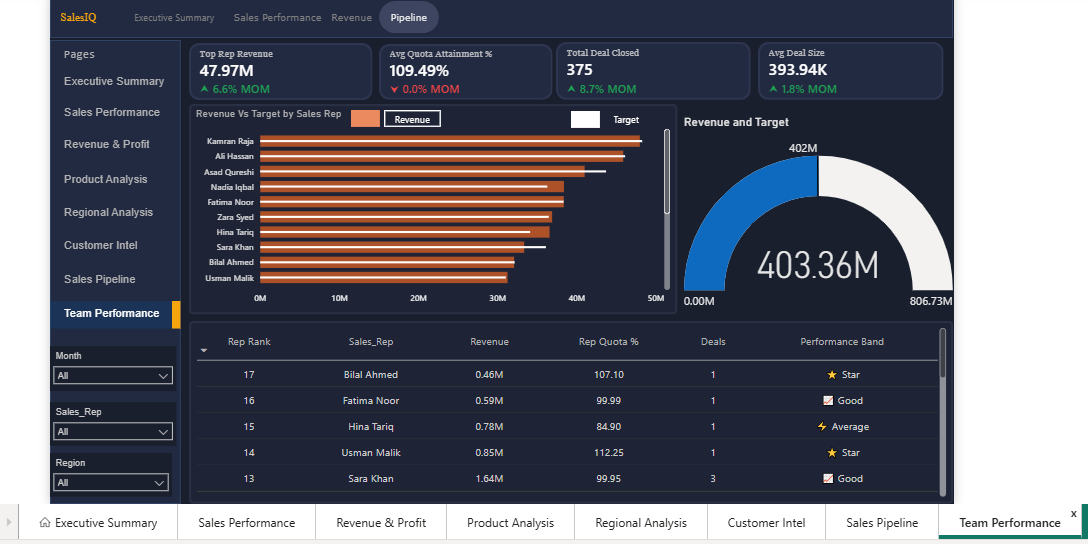

The page's visual inventory and layout, read from the dashboard file:
{"tool":"powerbi","page":{"name":"Team Performance","canvas":[1280,720],"ordinal":7},"visuals":[{"type":"shape","box":[0,0,1279.8,59.5],"z":0,"group":"g11"},{"type":"shape","box":[0,62,185,657.6],"z":0,"group":"g9"},{"type":"cardVisual","title":"Total Revenue ","fields":{"Data":["Table1.Avg Quota Attainment %"]},"box":[466,68,246,79],"z":0},{"type":"actionButton","box":[0,103.3,185,39.4],"z":0,"group":"g1"},{"type":"actionButton","box":[0,146.7,185,39.4],"z":0,"group":"g3"},{"type":"clusteredBarChart","title":"Revenue Vs Target by Sales Rep","fields":{"Category":["Table1.Sales_Rep"],"Y":["Sum(Table1.Revenue_PKR)"]},"box":[197,153.1,691.7,297.6],"z":0,"group":"g13"},{"type":"shape","box":[473.1,161.6,80.6,24.1],"z":0,"group":"g2"},{"type":"shape","box":[790.2,161.6,51.9,26.9],"z":0,"group":"g4"},{"type":"actionButton","box":[0,192,186,37.3],"z":0,"group":"g5"},{"type":"actionButton","box":[0,242.2,185,39.4],"z":0,"group":"g6"},{"type":"actionButton","box":[0,289.4,185,39.4],"z":0,"group":"g7"},{"type":"actionButton","box":[0,336.2,185,39.4],"z":0,"group":"g8"},{"type":"actionButton","box":[0,383.7,185,39.4],"z":0,"group":"g12"},{"type":"actionButton","box":[0,431.3,185,39.4],"z":0,"group":"g10"},{"type":"actionButton","box":[109,6.9,134,45.8],"z":1000,"group":"g11"},{"type":"cardVisual","title":"Total Revenue ","fields":{"Data":["Table1.Top Rep Revenue"]},"box":[197,66,260,81],"z":1000},{"type":"group","id":"g1","title":"Executive summary 1","box":[0,103.3,185,39.4],"z":1000,"group":"g9"},{"type":"group","id":"g2","title":"Group 1","box":[426.6,161.6,127.1,24.1],"z":1000,"group":"g13"},{"type":"shape","box":[426.6,161.6,41,24.1],"z":1000,"group":"g2"},{"type":"shape","box":[738.3,163,41,24.1],"z":1000,"group":"g4"},{"type":"shape","box":[173,431.3,12,39.4],"z":1000,"group":"g10"},{"type":"actionButton","box":[255,6.9,135,45.8],"z":2000,"group":"g11"},{"type":"cardVisual","title":"Total Revenue ","fields":{"Data":["Table1.Avg Deal Size"]},"box":[1003,65,263,82.2],"z":2000},{"type":"group","id":"g3","title":"Executive summary 1","box":[0,146.7,185,39.4],"z":2000,"group":"g9"},{"type":"group","id":"g4","title":"Group 2","box":[738.3,161.6,103.9,26.9],"z":2000,"group":"g13"},{"type":"actionButton","box":[390,6.9,76,45.8],"z":3000,"group":"g11"},{"type":"cardVisual","title":"Total Revenue ","fields":{"Data":["Table1.Total Deals Closed"]},"box":[717,65.2,276.4,82.2],"z":3000},{"type":"group","id":"g5","title":"Executive summary 1","box":[0,192,186,37.3],"z":3000,"group":"g9"},{"type":"slicer","fields":{"Values":["Table1.Region"]},"box":[1097,3,172.9,48.2],"z":4000},{"type":"actionButton","box":[465.9,6.9,85,45.8],"z":4000,"group":"g11"},{"type":"group","id":"g6","title":"Executive summary 1","box":[0,242.2,185,39.4],"z":4000,"group":"g9"},{"type":"slicer","fields":{"Values":["Table1.Product_Category"]},"box":[914.2,3,172.9,49.6],"z":5000},{"type":"group","id":"g7","title":"Executive summary 1","box":[0,289.4,185,39.4],"z":5000,"group":"g9"},{"type":"slicer","fields":{"Values":["Calendar.Month"]},"box":[725.7,3,172.9,49.6],"z":6000},{"type":"group","id":"g8","title":"Executive summary 1","box":[0,336.2,185,39.4],"z":6000,"group":"g9"},{"type":"group","id":"g9","title":"1 side bar","box":[0,62,186,657.6],"z":7000},{"type":"group","id":"g10","title":"Executive summary 1","box":[0,431.3,185,39.4],"z":7000,"group":"g9"},{"type":"group","id":"g11","title":"1 Header","box":[0,0,1280,59.1],"z":8000},{"type":"group","id":"g12","title":"Executive summary 1","box":[0,383.7,185,39.4],"z":8000,"group":"g9"},{"type":"slicer","fields":{"Values":["Table1.Sales_Rep"]},"box":[0,575.4,178.6,62.4],"z":9000},{"type":"slicer","fields":{"Values":["Table1.Region"]},"box":[0,647.7,172.9,62.4],"z":10000},{"type":"tableEx","fields":{"Values":["Table1.Rep Rank","Table1.Sales_Rep","Sum(Table1.Revenue_PKR)","Table1.Rep Quota %","Table1.Order_ID","Table1.Performance Band"]},"box":[197,460.6,1082.8,259.4],"z":11000},{"type":"slicer","fields":{"Values":["Calendar.Month"]},"box":[0,496.1,178.6,63.8],"z":12000},{"type":"group","id":"g13","title":"Group 3","box":[197,153.1,691.7,297.6],"z":13000},{"type":"gauge","title":"Revenue and Target","fields":{"Y":["Sum(Table1.Revenue_PKR)"],"TargetValue":["Sum(Table1.Target_PKR)"]},"box":[898.6,161.6,381.3,289.1],"z":14000}]}

Visuals, with their boxes on the page's 1280x720 design canvas (x1, y1, x2, y2). These are canvas units, not pixel positions in the 1088x544 screenshot, which may show the page scaled, cropped or inside an application window:
shape: (0,0,1280,60)
shape: (0,62,185,720)
"Total Revenue " cardVisual: (466,68,712,147)
actionButton: (0,103,185,143)
actionButton: (0,147,185,186)
"Revenue Vs Target by Sales Rep" clusteredBarChart: (197,153,889,451)
shape: (473,162,554,186)
shape: (790,162,842,188)
actionButton: (0,192,186,229)
actionButton: (0,242,185,282)
actionButton: (0,289,185,329)
actionButton: (0,336,185,376)
actionButton: (0,384,185,423)
actionButton: (0,431,185,471)
actionButton: (109,7,243,53)
"Total Revenue " cardVisual: (197,66,457,147)
"Executive summary 1" group: (0,103,185,143)
"Group 1" group: (427,162,554,186)
shape: (427,162,468,186)
shape: (738,163,779,187)
shape: (173,431,185,471)
actionButton: (255,7,390,53)
"Total Revenue " cardVisual: (1003,65,1266,147)
"Executive summary 1" group: (0,147,185,186)
"Group 2" group: (738,162,842,188)
actionButton: (390,7,466,53)
"Total Revenue " cardVisual: (717,65,993,147)
"Executive summary 1" group: (0,192,186,229)
slicer - Table1.Region: (1097,3,1270,51)
actionButton: (466,7,551,53)
"Executive summary 1" group: (0,242,185,282)
slicer - Table1.Product_Category: (914,3,1087,53)
"Executive summary 1" group: (0,289,185,329)
slicer - Calendar.Month: (726,3,899,53)
"Executive summary 1" group: (0,336,185,376)
"1 side bar" group: (0,62,186,720)
"Executive summary 1" group: (0,431,185,471)
"1 Header" group: (0,0,1280,59)
"Executive summary 1" group: (0,384,185,423)
slicer - Table1.Sales_Rep: (0,575,179,638)
slicer - Table1.Region: (0,648,173,710)
tableEx - Table1.Rep Rank x Table1.Sales_Rep: (197,461,1280,720)
slicer - Calendar.Month: (0,496,179,560)
"Group 3" group: (197,153,889,451)
"Revenue and Target" gauge: (899,162,1280,451)
